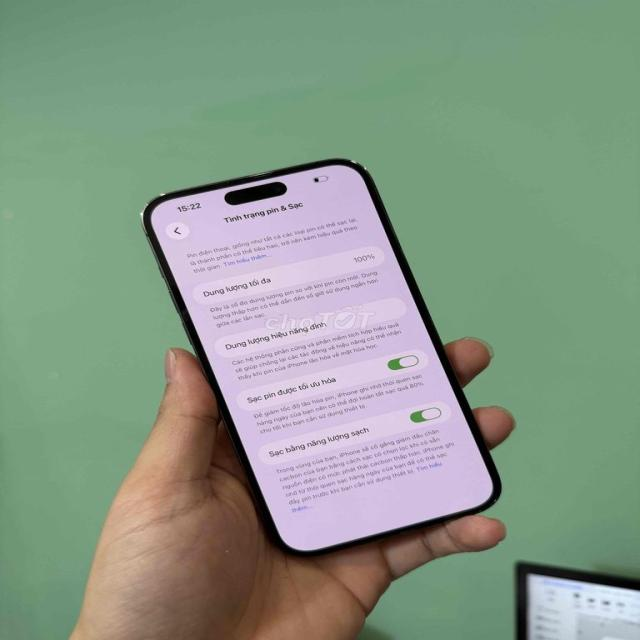gen_14: (124, 155, 512, 558)
